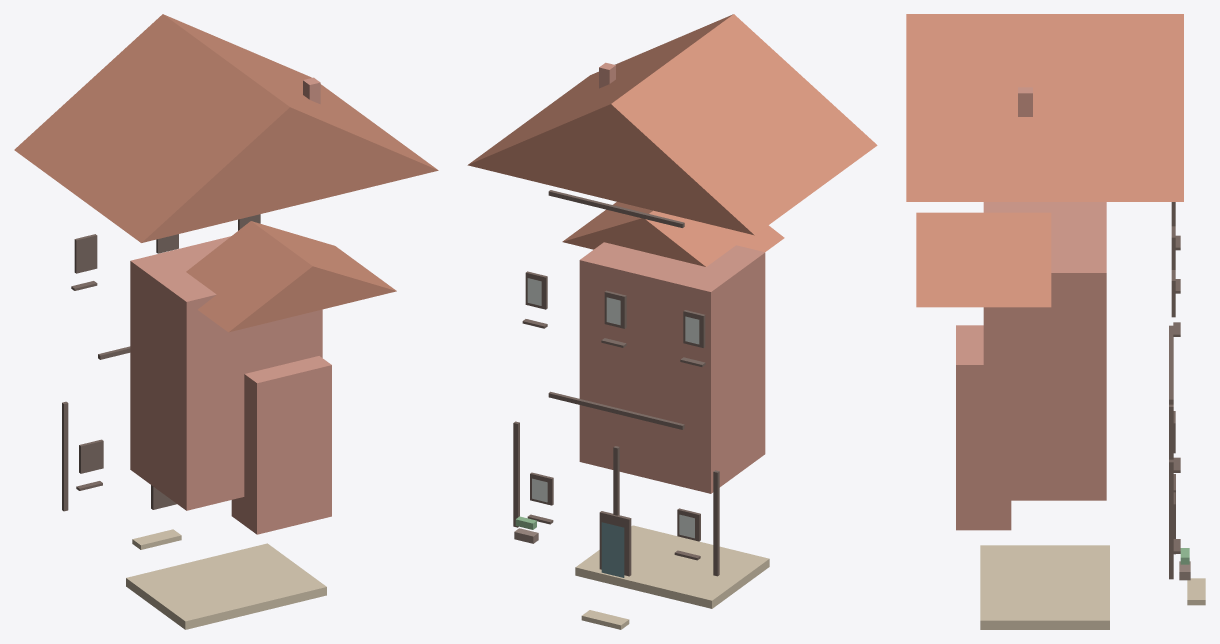
The model's file is ravnbro-house-brick-01.glb.
3 views of the same model, side by side, from view 1: azimuth 30°, elevation 25°; view 2: azimuth 150°, elevation 25°; view 3: azimuth 270°, elevation 25° (orthographic). The views are drawn at different scales.
Parts seen in each view (by area): view 1: roof, body, wing, wing_roof, plinth, uwf_1_-0.90, up_-1.14, wf_-0.84, step; view 2: roof, body, plinth, wing_roof, door, beam_1, beam_2, door_frame, up_-1.14, up_1.14, step; view 3: roof, body, wing_roof, plinth, wing, up_1.14, step, chimney.
Part boxes in pixels (x1,y1,x2,y2): roof: (14, 14, 438, 242); body: (130, 236, 322, 510); wing: (231, 356, 331, 534); wing_roof: (186, 221, 396, 332); plinth: (126, 543, 326, 629); uwf_1_-0.90: (74, 234, 97, 273); up_-1.14: (62, 401, 68, 511); wf_-0.84: (79, 439, 103, 473); step: (132, 529, 181, 549); roof: (467, 14, 877, 235); body: (579, 242, 765, 493); plinth: (575, 525, 769, 608); wing_roof: (562, 202, 784, 266); door: (601, 522, 624, 577); beam_1: (548, 391, 684, 429); beam_2: (548, 190, 684, 227); door_frame: (599, 511, 631, 576); up_-1.14: (713, 470, 719, 576); up_1.14: (513, 421, 519, 527); step: (581, 610, 629, 629); roof: (906, 14, 1183, 201); body: (983, 202, 1106, 500); wing_roof: (916, 212, 1051, 307); plinth: (980, 545, 1109, 629); wing: (956, 325, 1011, 530); up_1.14: (1169, 459, 1173, 579); step: (1187, 578, 1205, 605); chimney: (1018, 87, 1032, 116).
Size of the model in its own units: 3.28 by 5.61 by 2.62.
